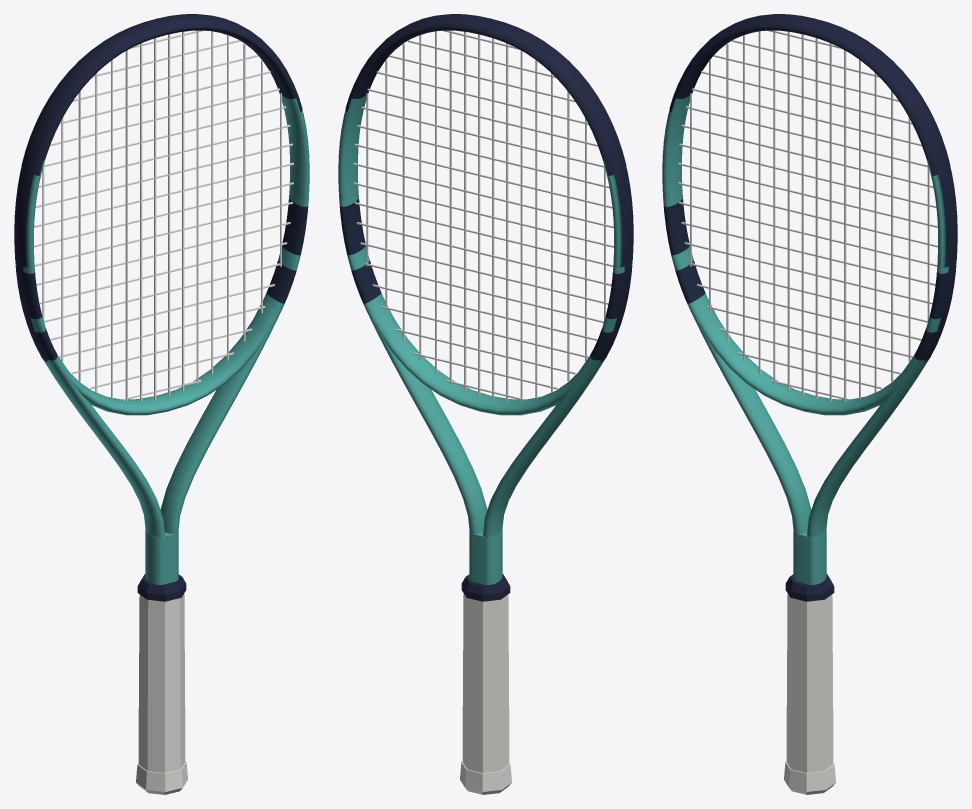
Rendered from babolat-evo-drive-2025.glb.
3 renders of one model, left to right at view 1: azimuth 30°, elevation 25°; view 2: azimuth 150°, elevation 25°; view 3: azimuth 330°, elevation 25°, orthographic.
Visible parts, largest first — view 1: frame, strings_mains, strings_crosses, grip, bumper, grommets, butt_cap, collar; view 2: frame, strings_mains, strings_crosses, grip, bumper, grommets, butt_cap, collar; view 3: frame, strings_mains, strings_crosses, grip, bumper, grommets, butt_cap, collar.
Part boxes in pixels (x1,y1,x2,y2): frame: (14, 27, 309, 584); strings_mains: (42, 30, 281, 401); strings_crosses: (34, 30, 293, 400); grip: (138, 593, 185, 772); bumper: (21, 14, 302, 175); grommets: (15, 168, 47, 361); butt_cap: (136, 761, 187, 794); collar: (137, 574, 186, 601); frame: (338, 27, 633, 584); strings_mains: (366, 30, 605, 401); strings_crosses: (353, 30, 613, 400); grip: (462, 593, 509, 772); bumper: (345, 14, 626, 175); grommets: (600, 168, 632, 361); butt_cap: (460, 761, 511, 794); collar: (461, 574, 510, 601); frame: (662, 27, 957, 584); strings_mains: (690, 30, 929, 401); strings_crosses: (678, 30, 937, 400); grip: (786, 593, 833, 772); bumper: (669, 14, 950, 175); grommets: (924, 168, 956, 361); butt_cap: (784, 761, 835, 794); collar: (785, 574, 834, 601).
Size of the model in its own units: 0.2702 by 0.6861 by 0.0396.
